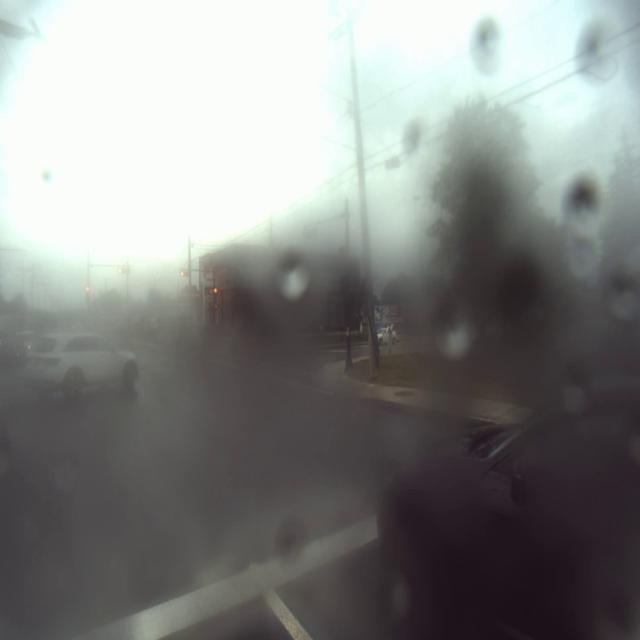car: (29, 328, 140, 409)
